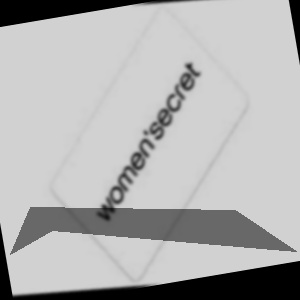women_secret: (81, 21, 300, 112)
